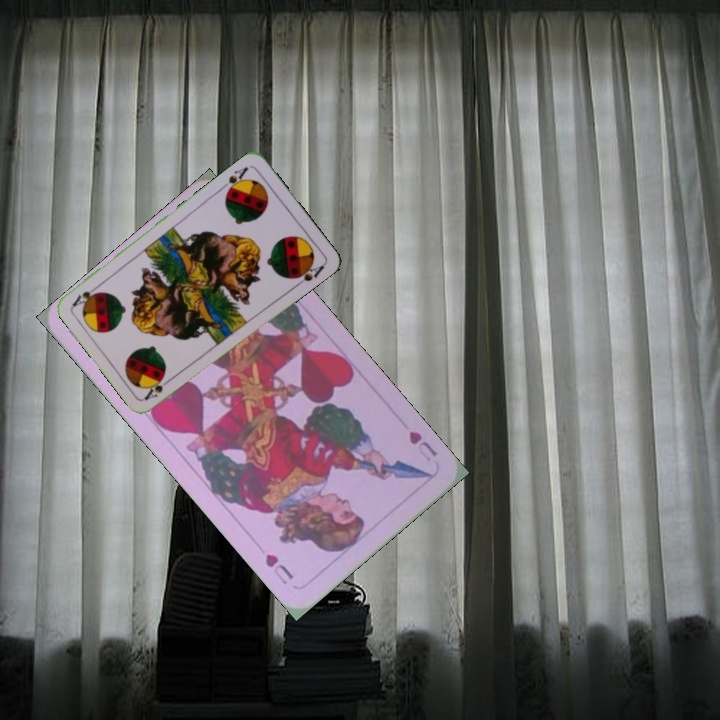HU: (404, 426, 440, 465)
SA: (217, 162, 251, 197), (140, 373, 176, 403)
